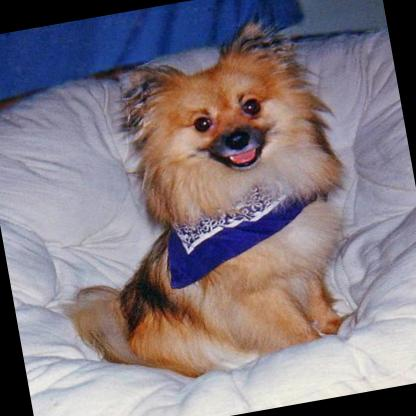Pomeranian: (21, 13, 371, 395)
